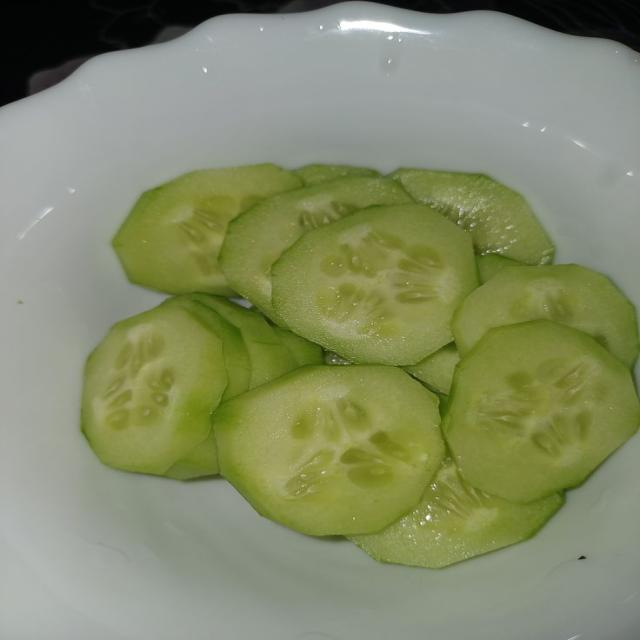cucumber sliced: (214, 366, 444, 535), (443, 320, 639, 502), (273, 205, 477, 364), (220, 177, 412, 326), (113, 164, 301, 294), (82, 305, 226, 474), (349, 458, 563, 568), (452, 265, 638, 367), (391, 169, 554, 264), (190, 293, 297, 388), (164, 295, 252, 400), (404, 343, 459, 394), (163, 430, 218, 480), (274, 325, 323, 366), (294, 164, 379, 186), (476, 254, 526, 283), (324, 351, 353, 365)
